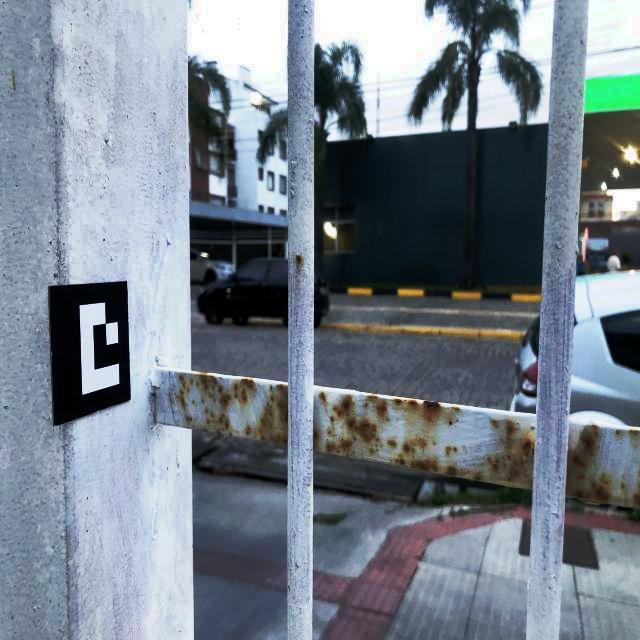Corrosion: (565, 423, 611, 504), (325, 395, 384, 457), (487, 418, 535, 481), (245, 384, 288, 445), (196, 372, 256, 408), (176, 375, 194, 407), (411, 458, 439, 473), (404, 438, 426, 454), (205, 412, 224, 425), (422, 400, 442, 411), (394, 453, 406, 467), (376, 401, 387, 416), (313, 430, 319, 450), (447, 465, 457, 476), (446, 446, 458, 455), (634, 491, 640, 508), (319, 391, 325, 403), (224, 419, 230, 430), (409, 399, 418, 406), (296, 254, 302, 264), (366, 394, 378, 399), (629, 429, 639, 435), (473, 475, 482, 481), (216, 428, 224, 434), (492, 420, 498, 428), (395, 398, 401, 405), (389, 441, 395, 447), (454, 406, 460, 412), (186, 416, 193, 421), (330, 415, 335, 422), (615, 430, 621, 435), (202, 428, 208, 432), (621, 483, 625, 488), (229, 432, 233, 436), (328, 430, 331, 434), (449, 421, 452, 425), (205, 409, 208, 412), (365, 403, 368, 406), (202, 398, 204, 402), (192, 401, 194, 405)
